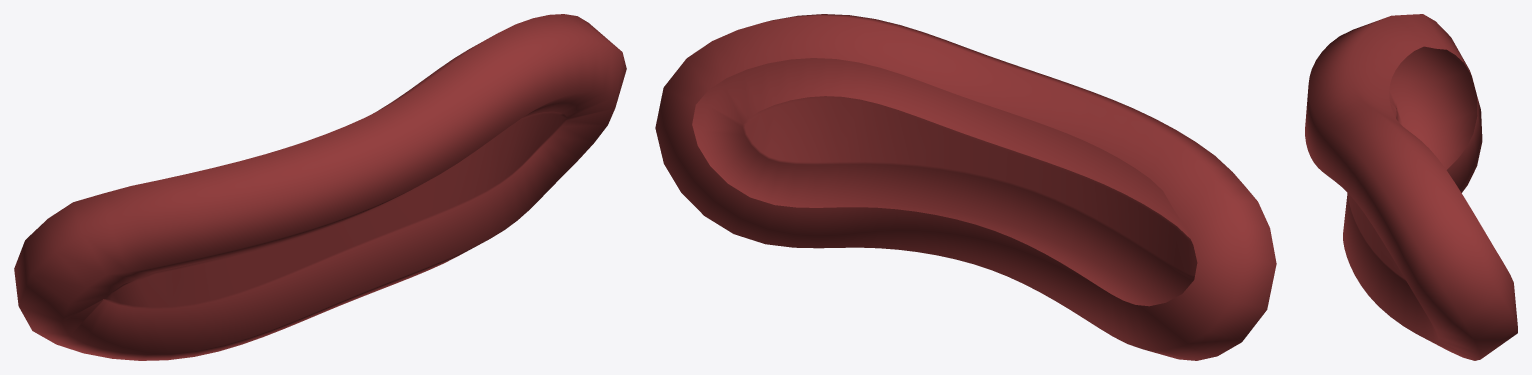
File: Mouth00.fbx
The picture shows the model from 3 angles, left to right: view 1: azimuth 30°, elevation 25°; view 2: azimuth 150°, elevation 25°; view 3: azimuth 270°, elevation 25°; orthographic projection. The views are drawn at different scales.
Visible parts, largest first — view 1: Mouth1; view 2: Mouth1; view 3: Mouth1.
Part boxes in pixels (x1,y1,x2,y2): Mouth1: (14,14,626,360); Mouth1: (655,14,1276,360); Mouth1: (1305,14,1517,360).
Bounding box in the file's own units: 5.33 × 2.12 × 1.69.
